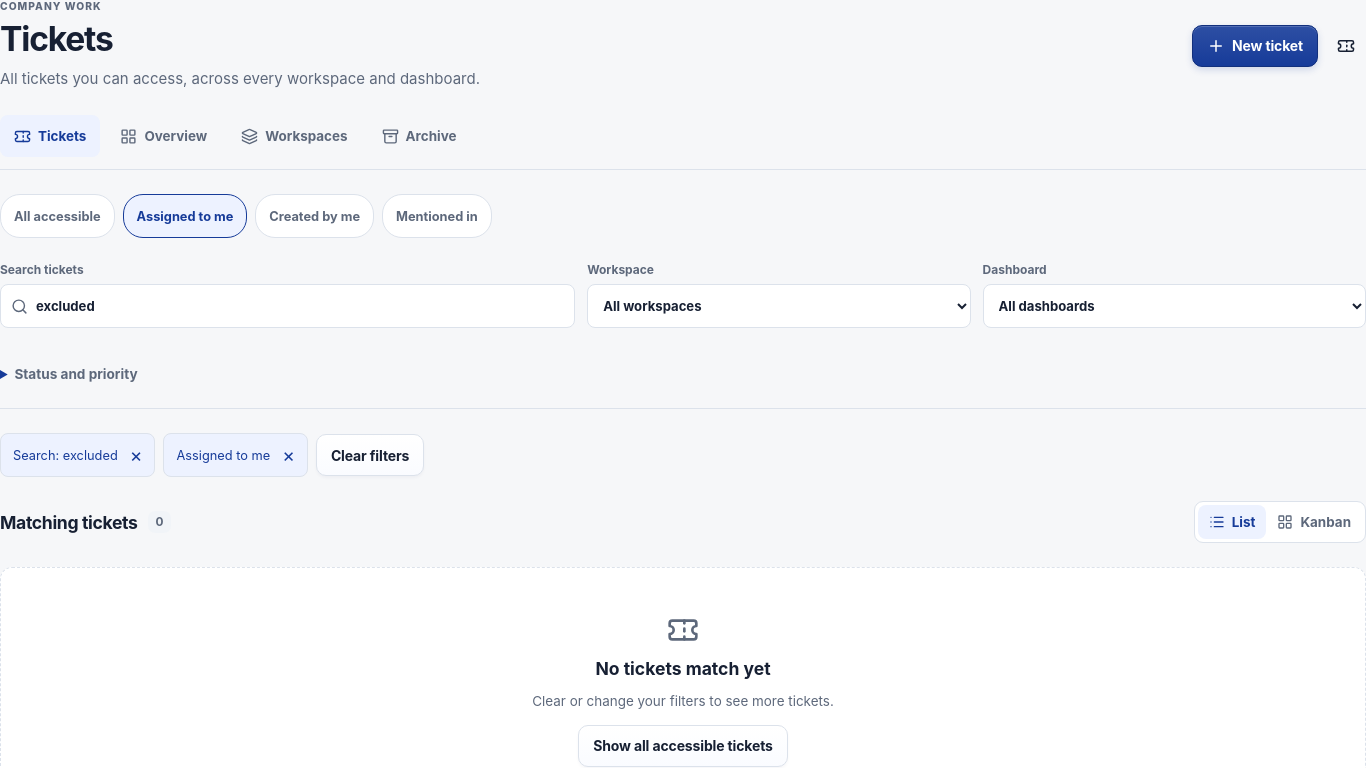
Company ticket workspace › offers the created ticket even when current filters exclude it, then explicitly starts a new form
Step 1. Click the button "New ticket" → (1255, 46), box [1192,25,1318,67]
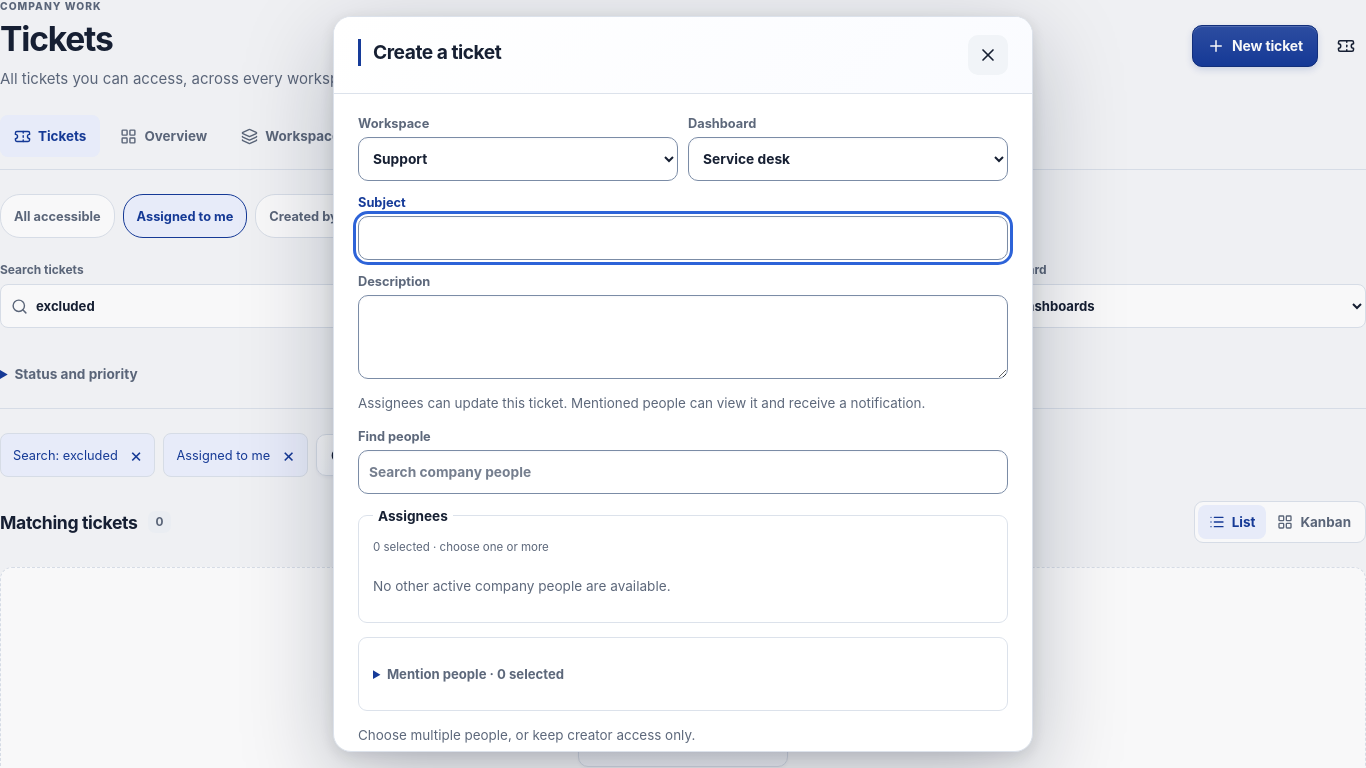
Step 2. Type "Created outside the filter" into the field labelled "Subject" → (683, 238), box [358,216,1008,260]
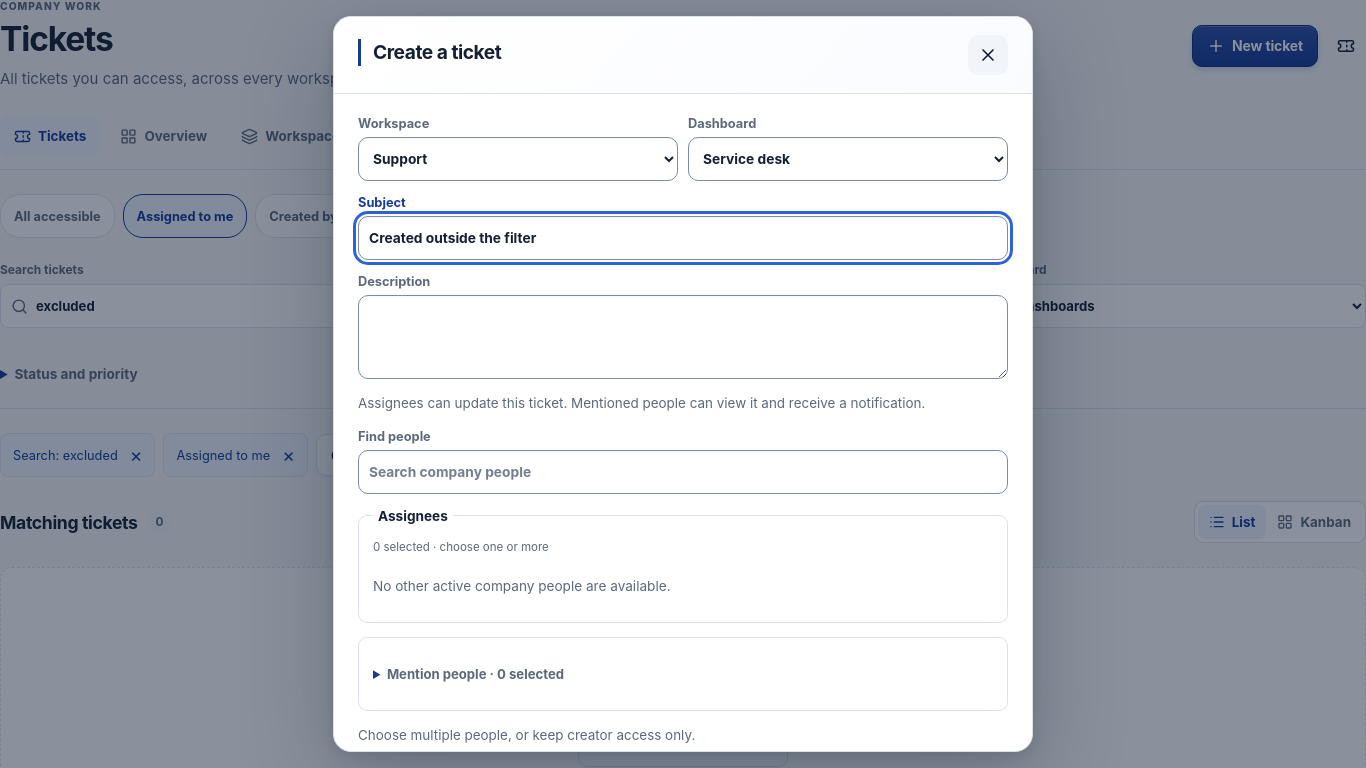
Step 3. Type "Inspect the new task." into the text box labelled "Description" → (683, 337), box [358,295,1008,379]
(page scrolled)
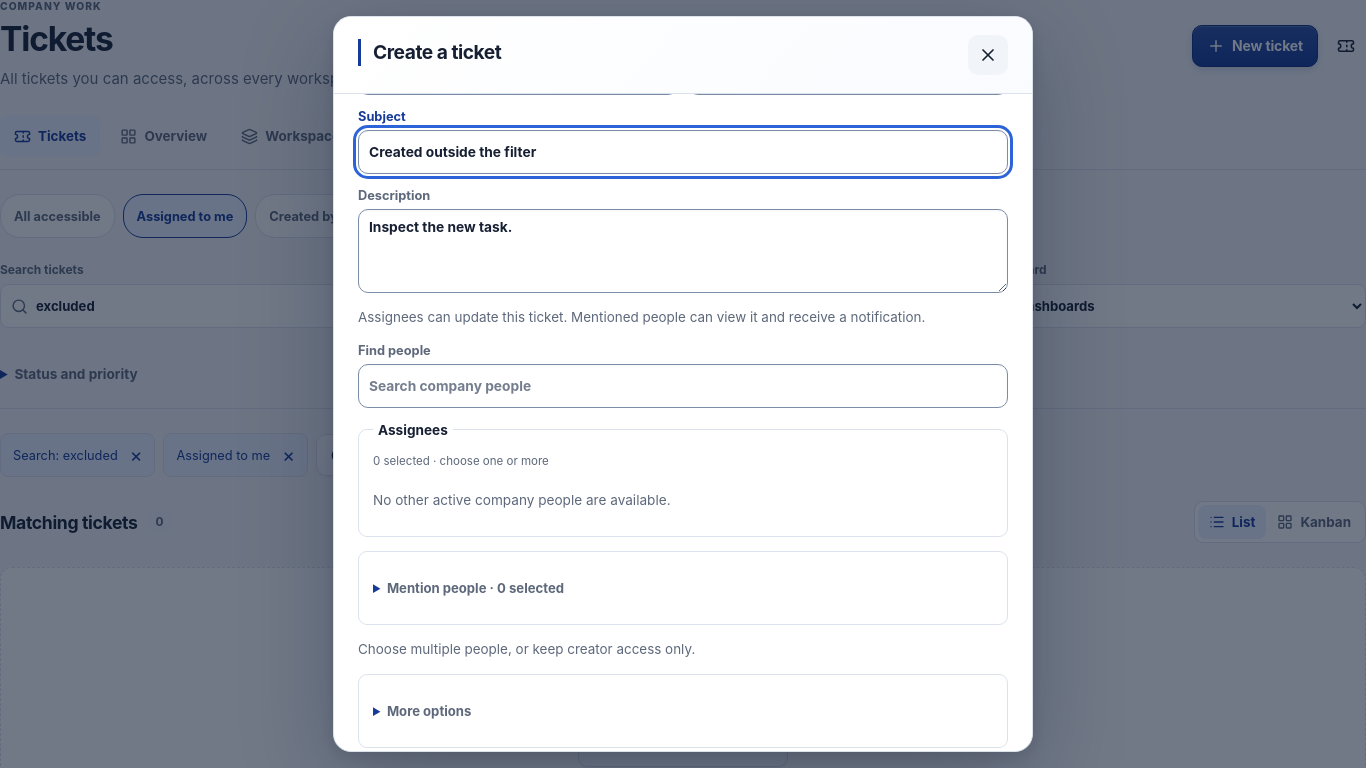
Step 4. Submit the form named "Create ticket"
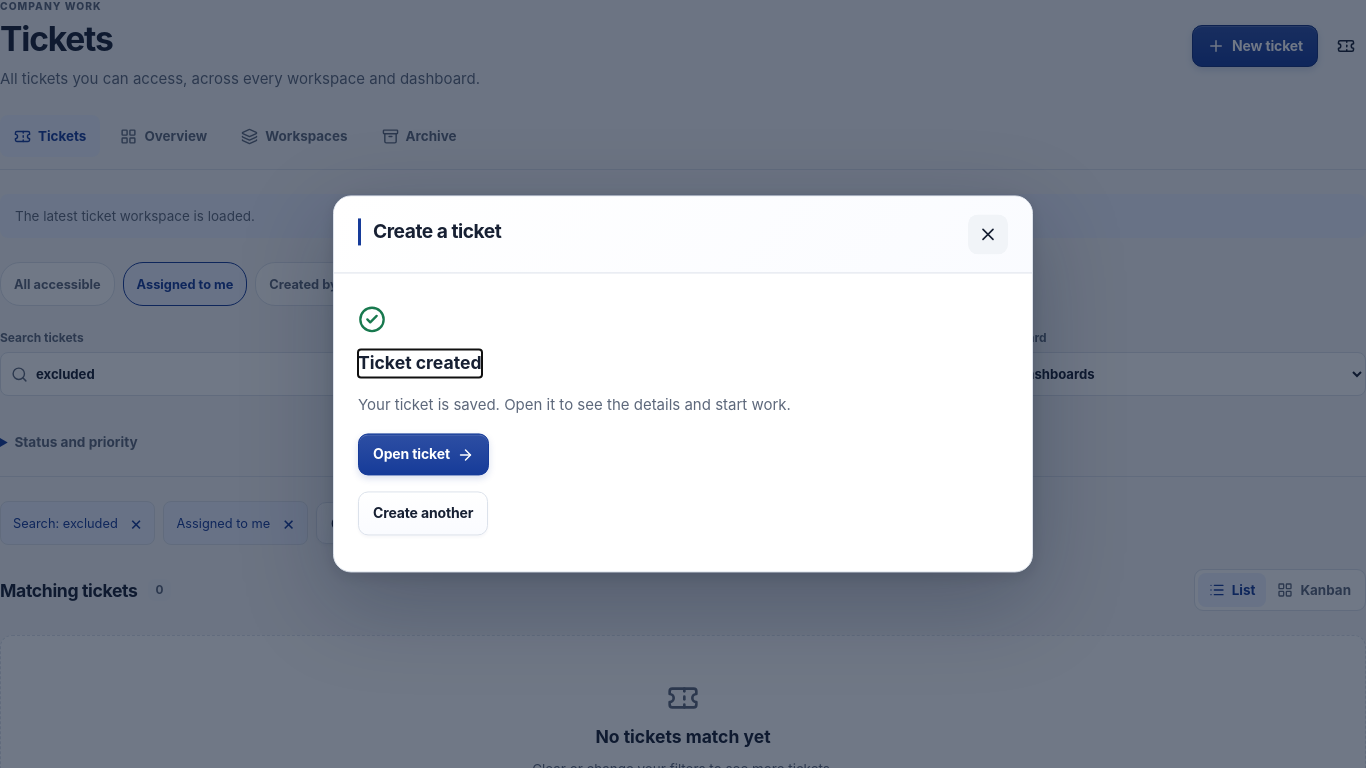
Result: the heading "Ticket created" is shown at [358,349,482,378]
Step 5. Click the button "Create another" → (423, 514), box [358,492,488,536]
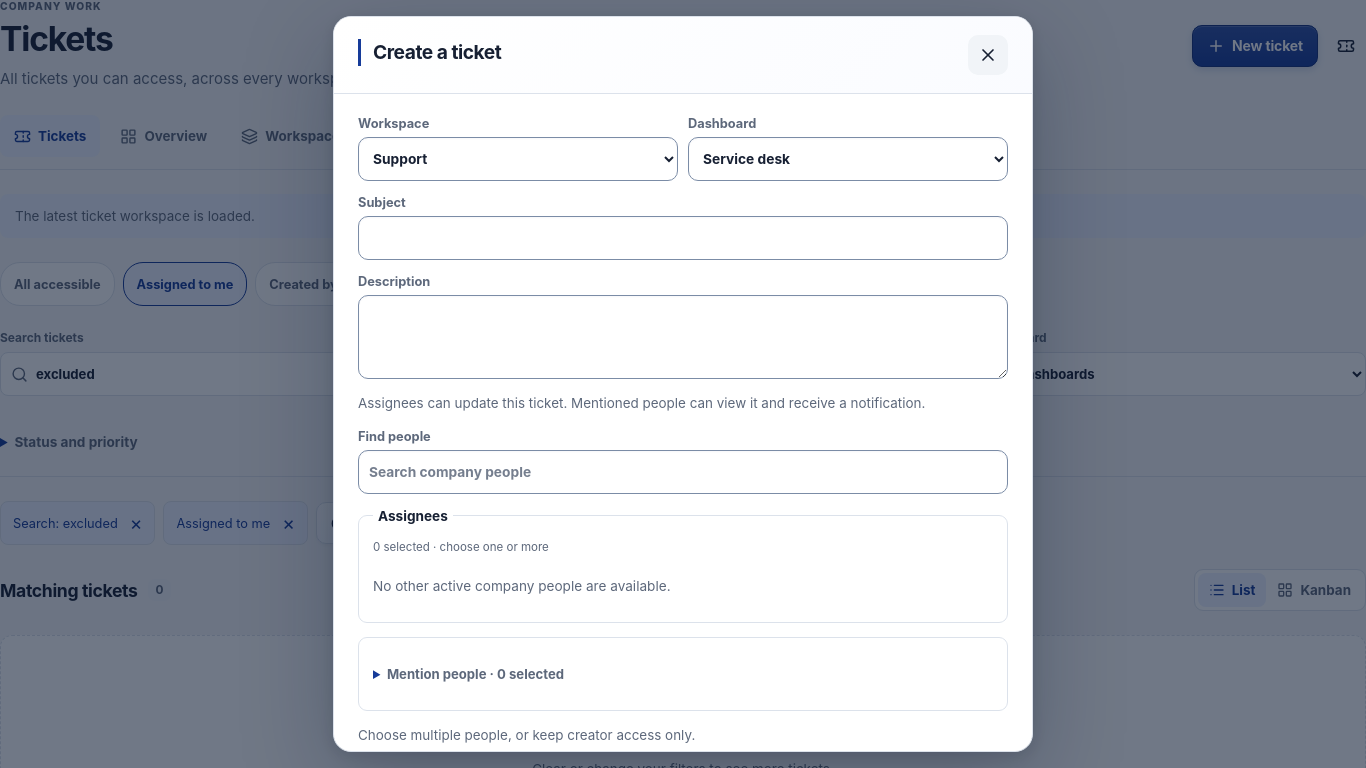
Result: the form named "Create ticket" is shown at [358,116,1008,751]
Result: the field labelled "Subject" is empty at [358,216,1008,260]
Result: the text box labelled "Description" is empty at [358,295,1008,379]
